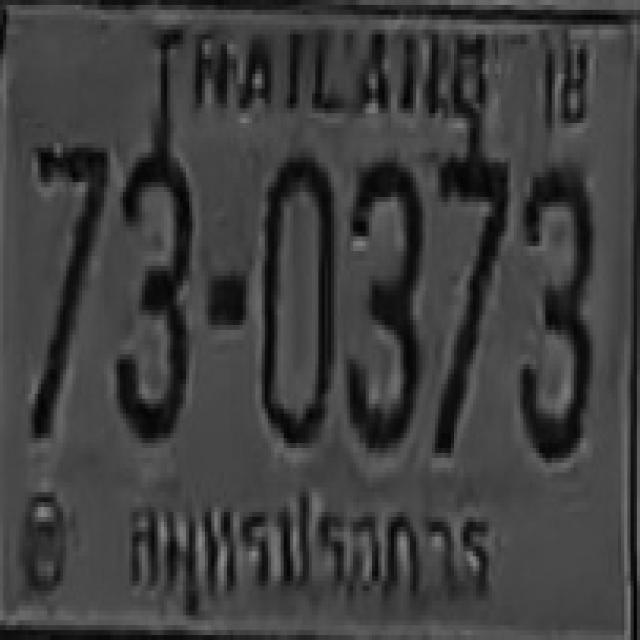0: (259, 150, 334, 441)
3: (112, 138, 191, 438), (342, 155, 421, 446), (516, 160, 591, 455)
7: (28, 143, 108, 433), (432, 146, 508, 450)
SamutPrakan: (123, 494, 496, 620)
